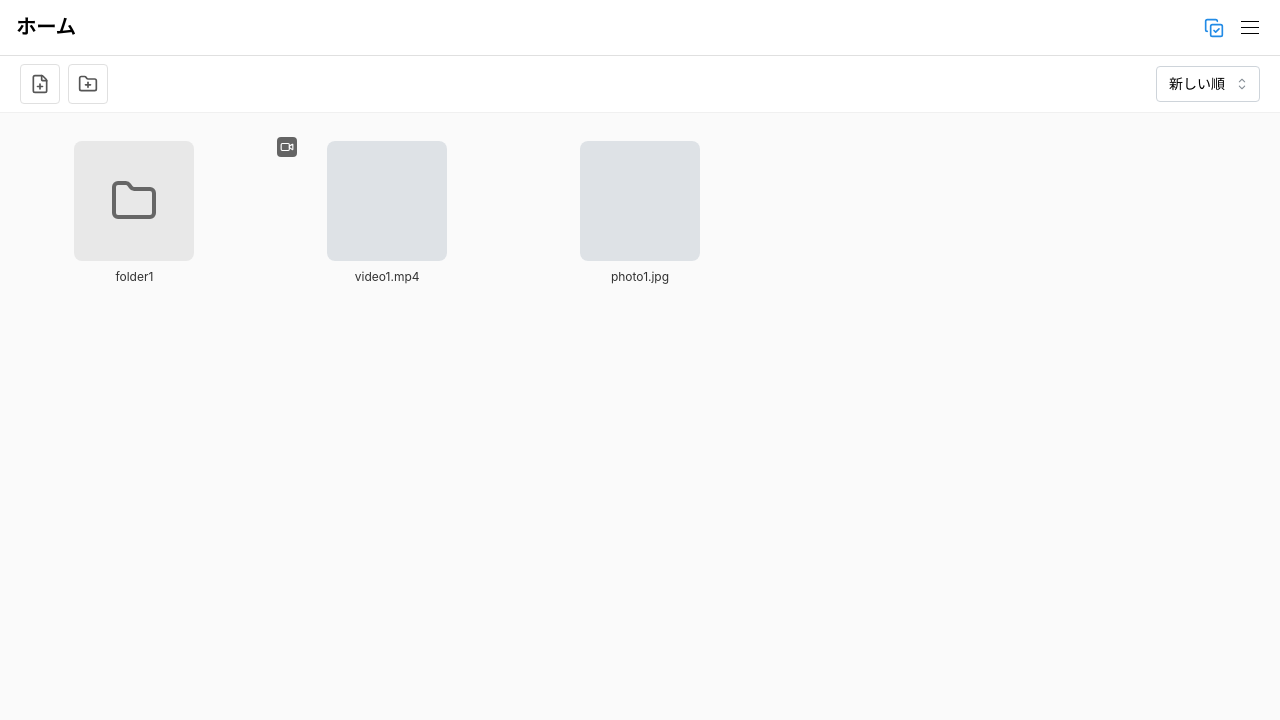
MediaBrowser Upload Tests › 5. Folder Creation Flow › should open create folder dialog when button is clicked
Expected: the text "folder1" is shown, [115, 269, 153, 285]
Click the button named "フォルダを作成": (88, 84) [68, 64, 108, 104]
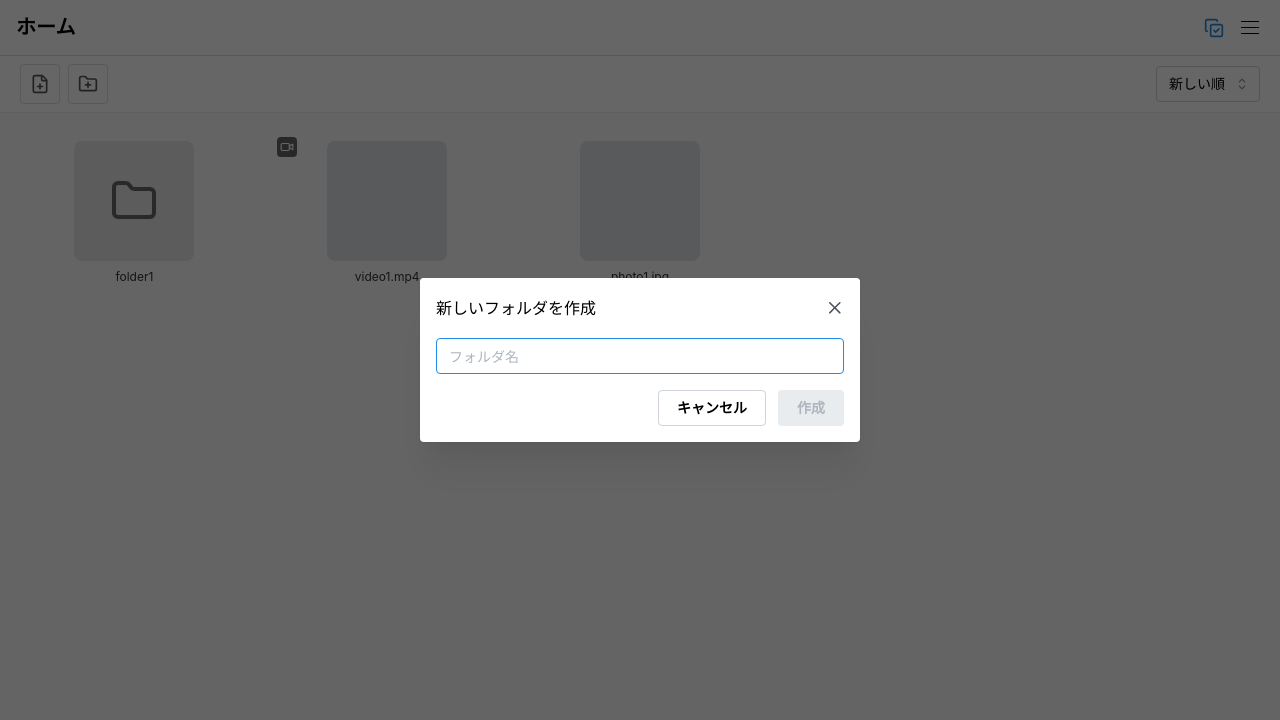
Expected: the heading "新しいフォルダを作成" is shown, [436, 300, 596, 316]
